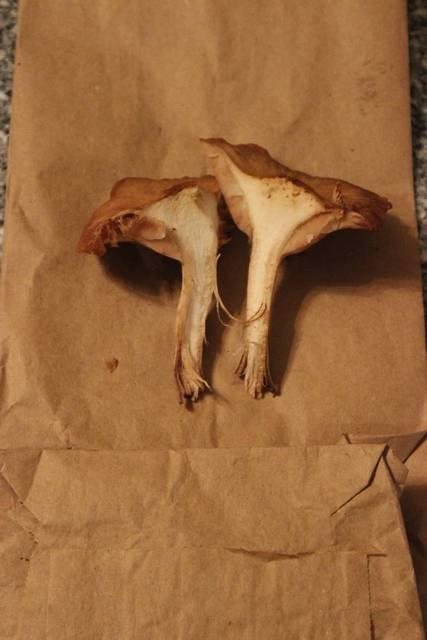Edible Mushroom: (198, 135, 392, 399), (76, 173, 231, 404)
